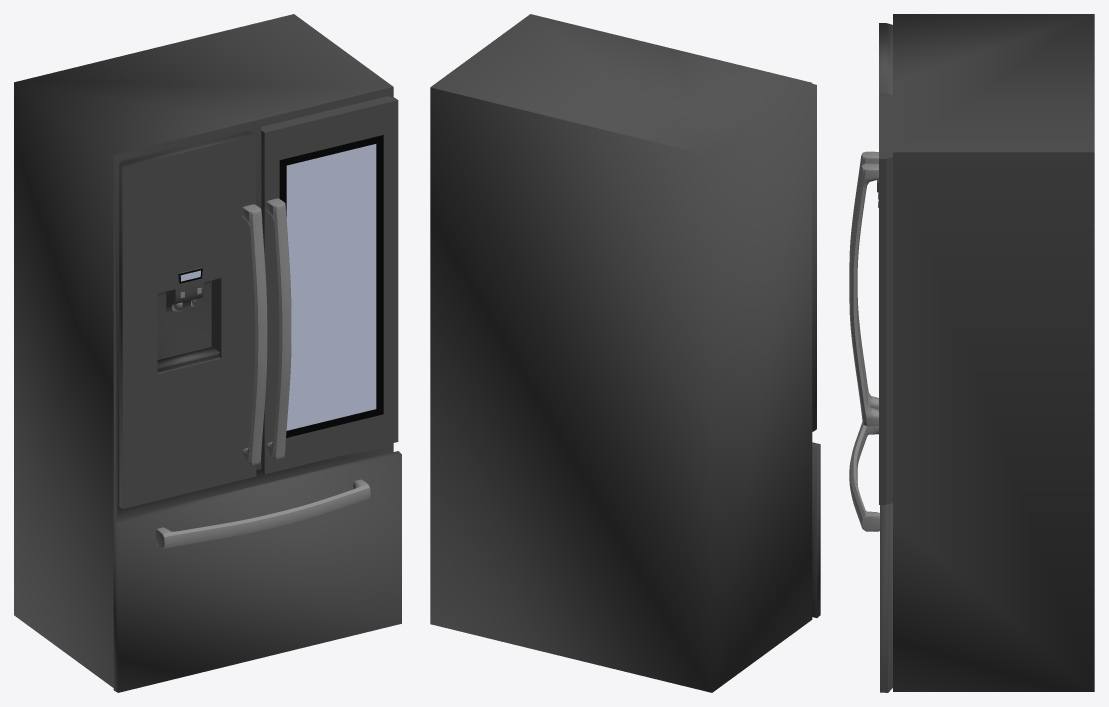
File: Nevera_o_French Door .glb
3 views of the same model, side by side, from view 1: azimuth 30°, elevation 25°; view 2: azimuth 150°, elevation 25°; view 3: azimuth 270°, elevation 25° (orthographic).
Visible parts, largest first — view 1: Cube; view 2: Cube; view 3: Cube.
Boxes of the visible parts, x1=… form: Cube: x1=14, y1=14, x2=401, y2=692; Cube: x1=430, y1=14, x2=820, y2=692; Cube: x1=849, y1=14, x2=1094, y2=692.
Bounding box in the file's own units: 0.95 × 1.7 × 0.7.
